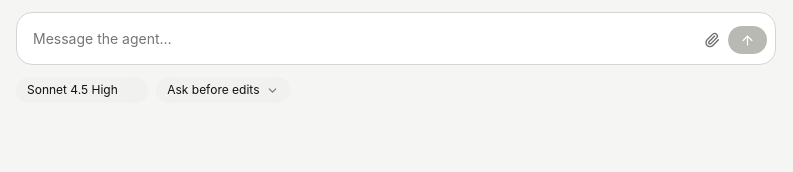
Test case: a refused send › says it in the table’s words, not the socket’s
Click the text box labelled "Message the agent…": (362, 38) [33,21,690,56]
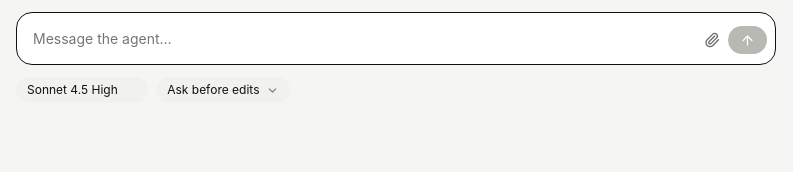
Type keys "run the tests"
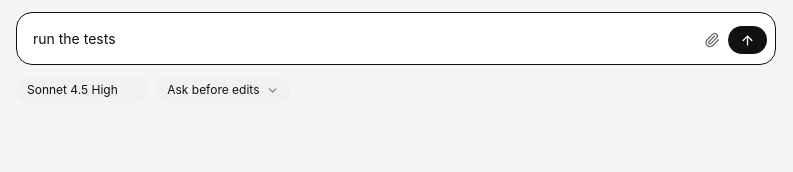
Click the button named "Send": (748, 40) [728,26,767,54]
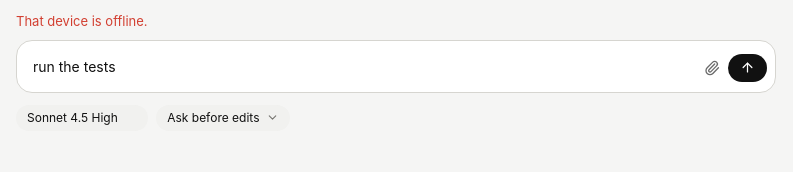
Now the text "That device is offline." is shown, box [16,13,148,29]
